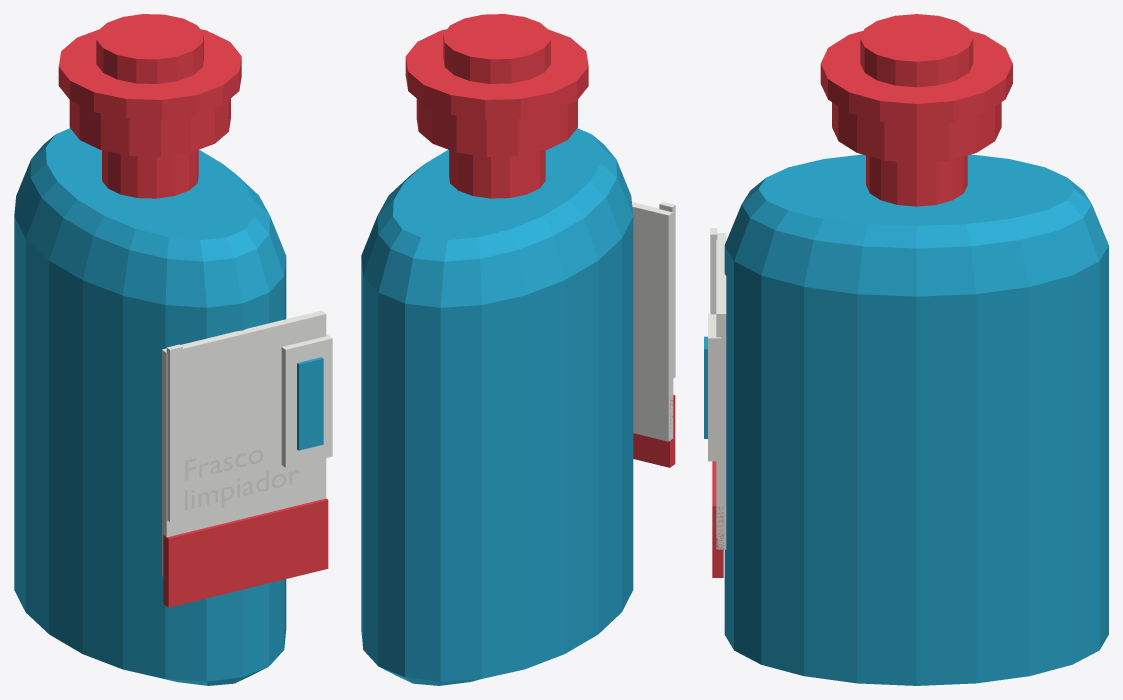
File: frascoLimpiador.fbx
The picture shows the model from 3 angles, left to right: view 1: azimuth 30°, elevation 25°; view 2: azimuth 150°, elevation 25°; view 3: azimuth 270°, elevation 25°; orthographic projection. The views are drawn at different scales.
Visible parts, largest first — view 1: Limpiador, frasco; view 2: Limpiador; view 3: Limpiador.
Boxes of the visible parts, x1,y1,x2,y2 form: Limpiador: (14, 14, 332, 685); frasco: (185, 450, 299, 510); Limpiador: (361, 14, 675, 685); Limpiador: (704, 14, 1108, 685).
Bounding box in the file's own units: 86 × 238 × 143.
